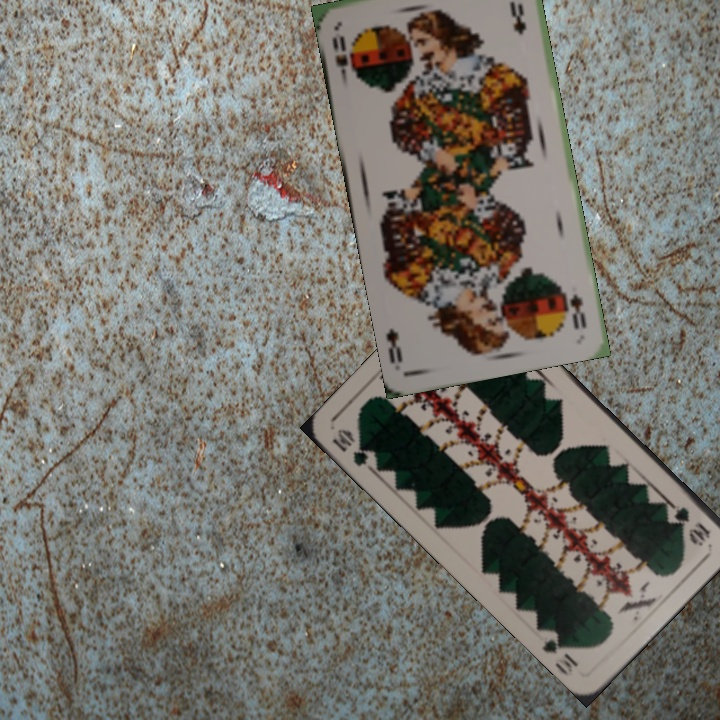G10: (661, 498, 713, 548), (327, 424, 380, 470)
SO: (328, 31, 351, 85), (566, 289, 589, 333)
